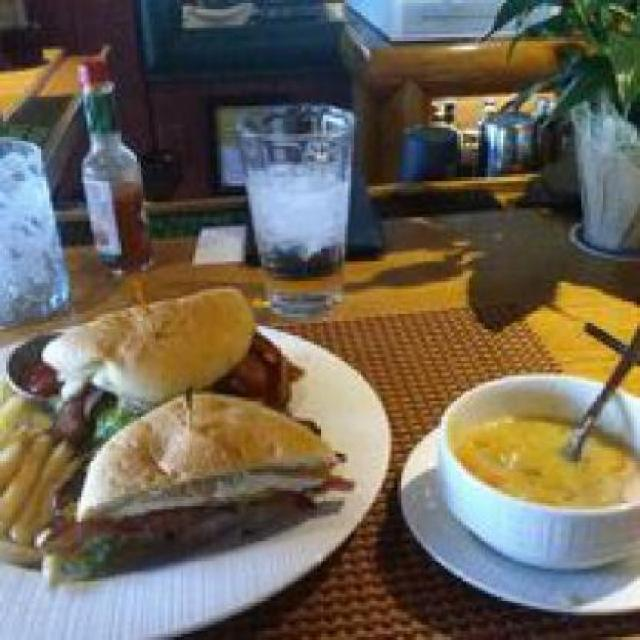clam chowder: (428, 361, 638, 559)
club sandwich: (60, 289, 342, 540)
